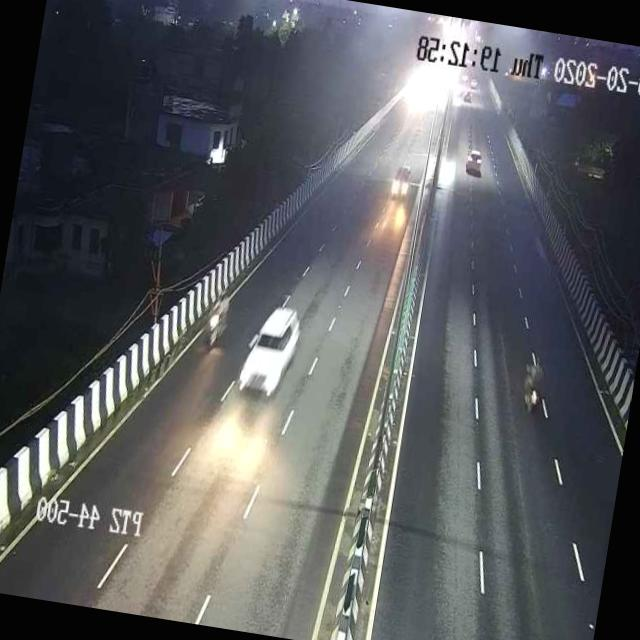car: (236, 296, 308, 402), (388, 162, 416, 204), (462, 142, 492, 178)
